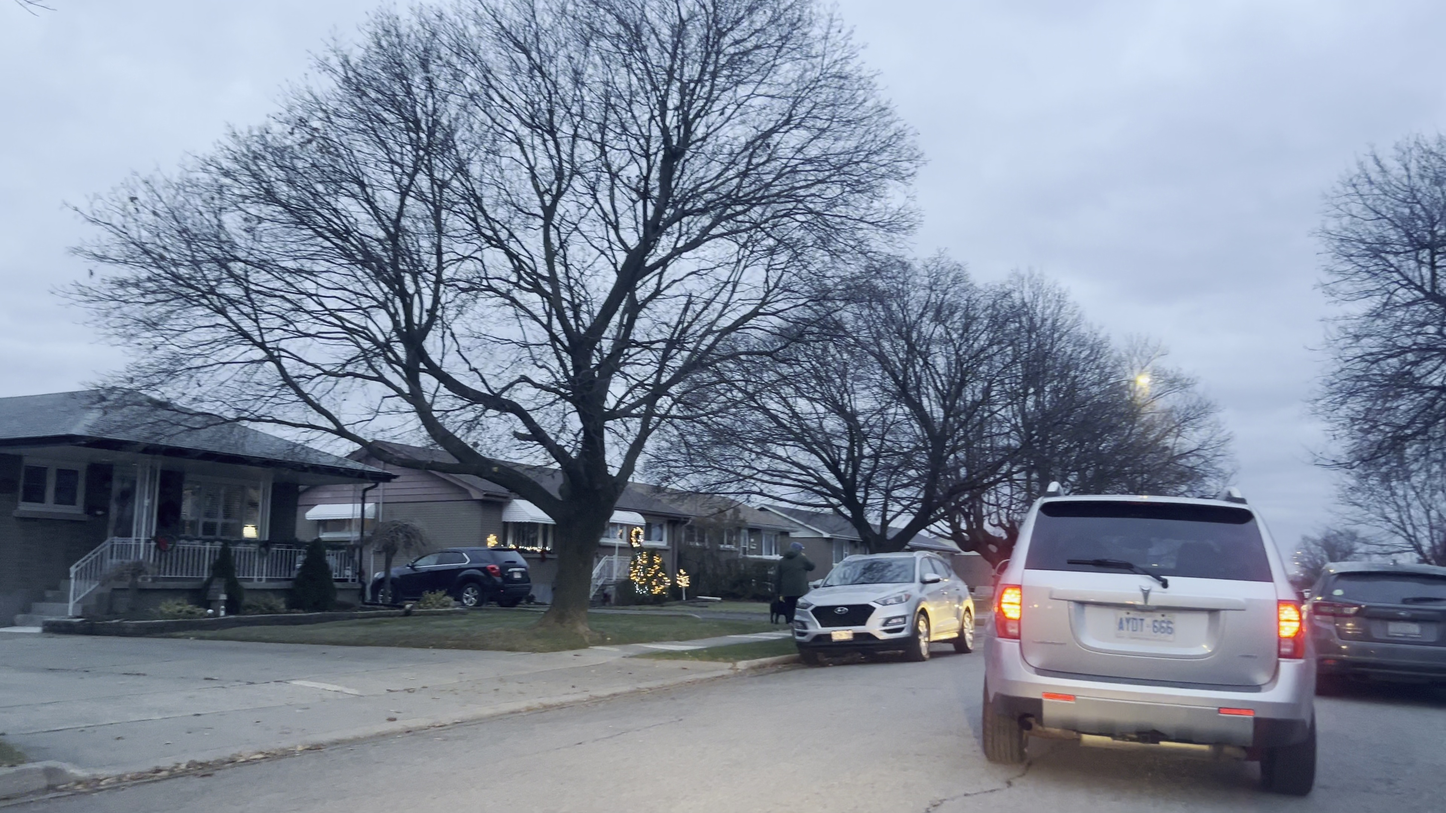cracks: (927, 780, 1023, 812)
